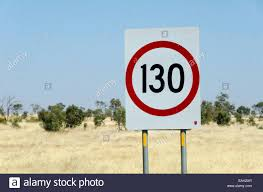sp130: (125, 44, 201, 115)
